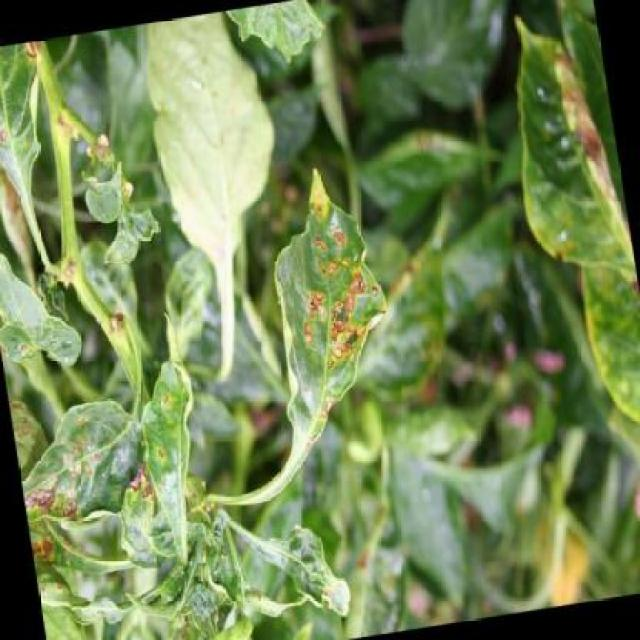Tomato leaf bacterial spot: (226, 157, 420, 478), (484, 0, 634, 305), (122, 348, 229, 555), (17, 395, 148, 557)
